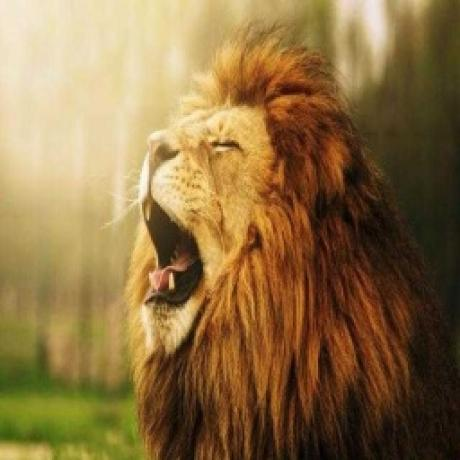Lion: (123, 21, 431, 460)
